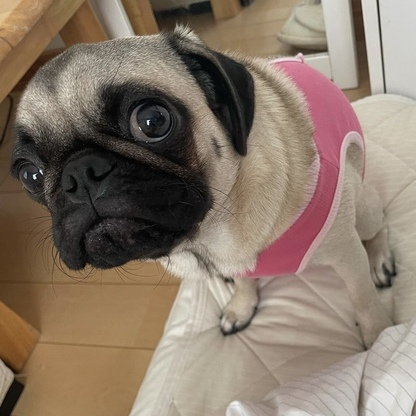Pug: (6, 16, 406, 354)
